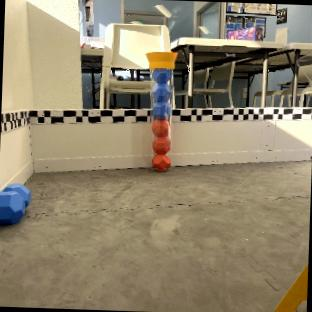V5_BLUE: (0, 184, 30, 225), (153, 96, 170, 119)
V5_RED: (148, 53, 175, 171), (152, 119, 170, 169), (152, 153, 170, 171), (153, 119, 169, 136)
